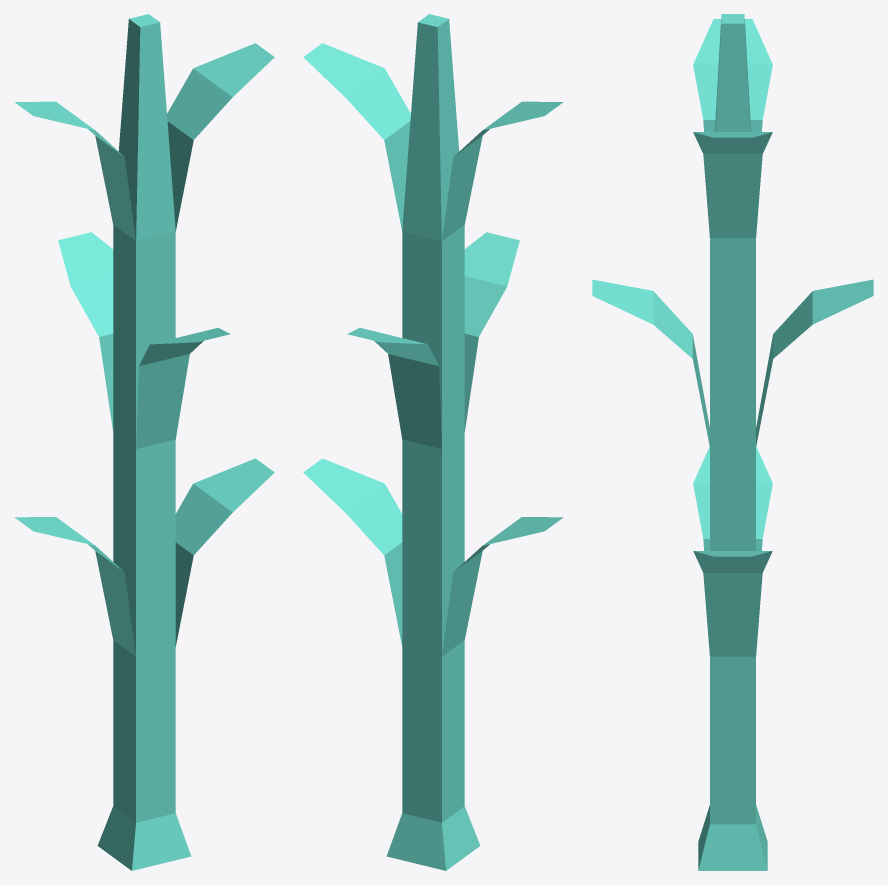
Rendered from crops_cornStageB.gltf.
The picture shows the model from 3 angles, left to right: view 1: azimuth 30°, elevation 25°; view 2: azimuth 150°, elevation 25°; view 3: azimuth 270°, elevation 25°; orthographic projection.
Visible parts, largest first — view 1: crops_cornStageB; view 2: crops_cornStageB; view 3: crops_cornStageB.
Part boxes in pixels (x1,y1,x2,y2): crops_cornStageB: (14, 14, 274, 870); crops_cornStageB: (303, 14, 563, 870); crops_cornStageB: (592, 14, 873, 870).
Size of the model in its own units: 0.3042 by 1 by 0.3042.
